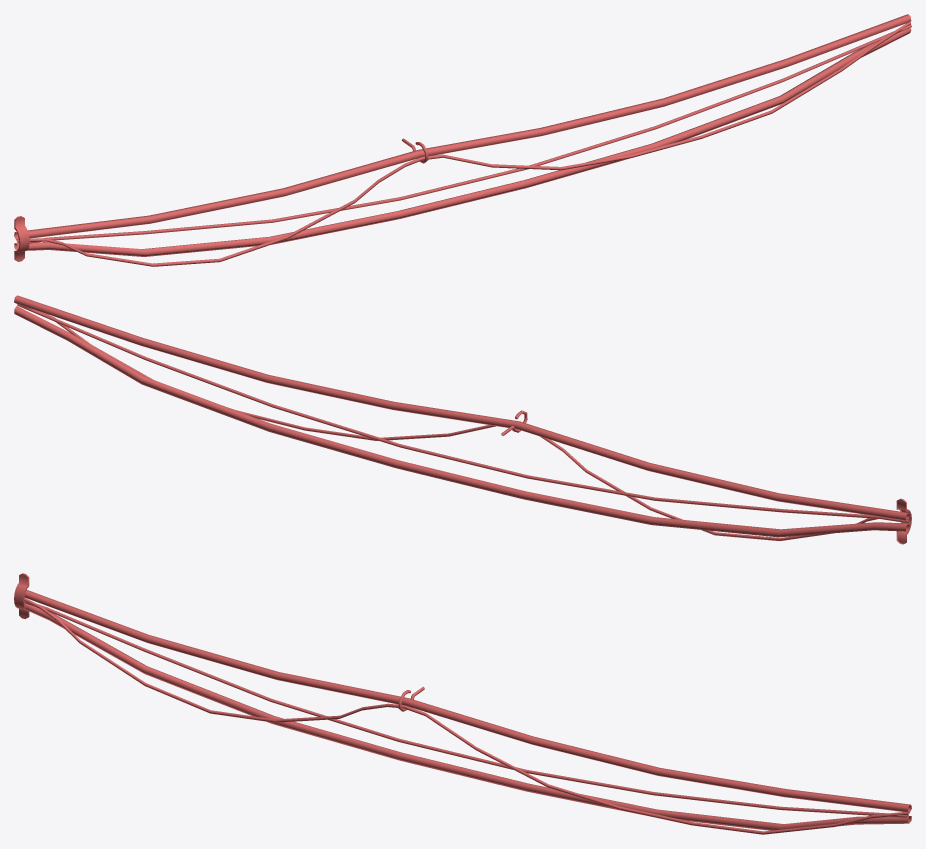
The model's file is Wire_A_Snaps004.FBX.
3 views of the same model, one above another, from view 1: azimuth 30°, elevation 25°; view 2: azimuth 150°, elevation 25°; view 3: azimuth 330°, elevation 25° (orthographic).
Visible parts, largest first — view 1: Geometry_Wire_A_LOD00; view 2: Geometry_Wire_A_LOD00; view 3: Geometry_Wire_A_LOD00.
Boxes of the visible parts, x1,y1,x2,y2 form: Geometry_Wire_A_LOD00: [14, 14, 911, 266]; Geometry_Wire_A_LOD00: [14, 295, 911, 544]; Geometry_Wire_A_LOD00: [14, 573, 911, 834].
Size of what is drawn, in the model's own units: 300 by 29.93 by 14.13.
